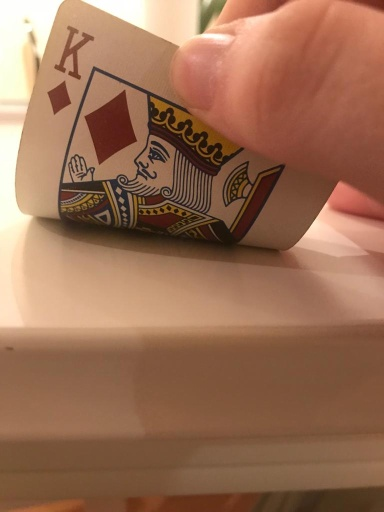Dk: (48, 23, 95, 116)
